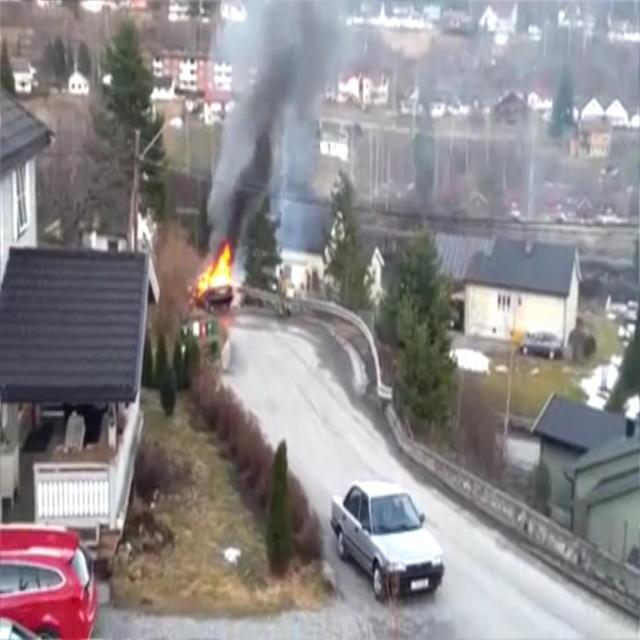Fire: (189, 242, 234, 313)
Smoke: (203, 0, 312, 251), (270, 0, 360, 257)
